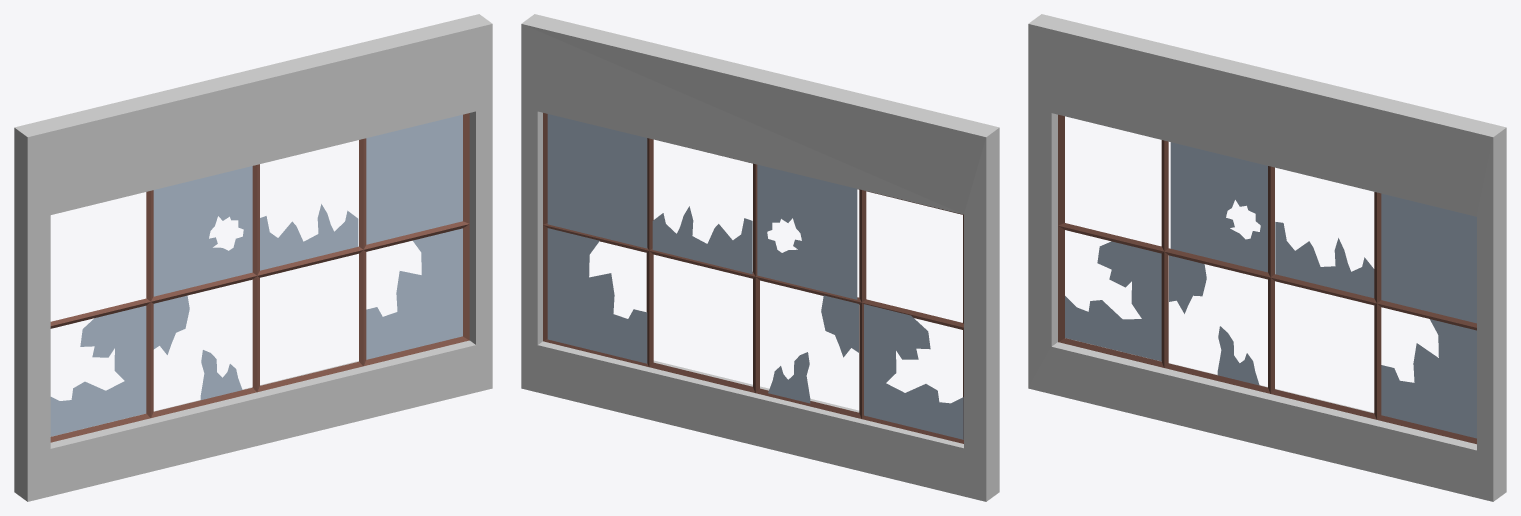
The model's file is zid prozor.fbx.
3 views of the same model, side by side, from view 1: azimuth 30°, elevation 25°; view 2: azimuth 150°, elevation 25°; view 3: azimuth 330°, elevation 25° (orthographic).
Visible parts, largest first — view 1: Cube.004, Cube.003, Plane.001, Plane.004, Plane.002, Plane.006, Plane.003, Plane.005; view 2: Cube.004, Plane.001, Plane.004, Cube.003, Plane.002, Plane.006, Plane.003, Plane.005; view 3: Cube.004, Cube.003, Plane.001, Plane.004, Plane.002, Plane.006, Plane.003, Plane.005.
Part boxes in pixels (x1,y1,x2,y2): Cube.004: [14, 14, 492, 501]; Cube.003: [50, 113, 469, 442]; Plane.001: [366, 114, 462, 244]; Plane.004: [153, 166, 252, 296]; Plane.002: [366, 228, 462, 359]; Plane.006: [50, 305, 146, 436]; Plane.003: [260, 204, 358, 270]; Plane.005: [153, 295, 242, 399]; Cube.004: [521, 14, 999, 501]; Plane.001: [547, 114, 647, 248]; Plane.004: [757, 164, 857, 299]; Cube.003: [543, 113, 963, 443]; Plane.002: [547, 228, 647, 363]; Plane.006: [864, 304, 963, 439]; Plane.003: [652, 206, 752, 274]; Plane.005: [768, 295, 858, 403]; Cube.004: [1028, 14, 1506, 501]; Cube.003: [1058, 114, 1476, 444]; Plane.001: [1381, 193, 1476, 323]; Plane.004: [1170, 142, 1267, 272]; Plane.002: [1381, 319, 1476, 438]; Plane.006: [1065, 241, 1161, 361]; Plane.003: [1275, 222, 1374, 298]; Plane.005: [1169, 255, 1259, 385].
Bounding box in the file's own units: 1000 × 749 × 50.
